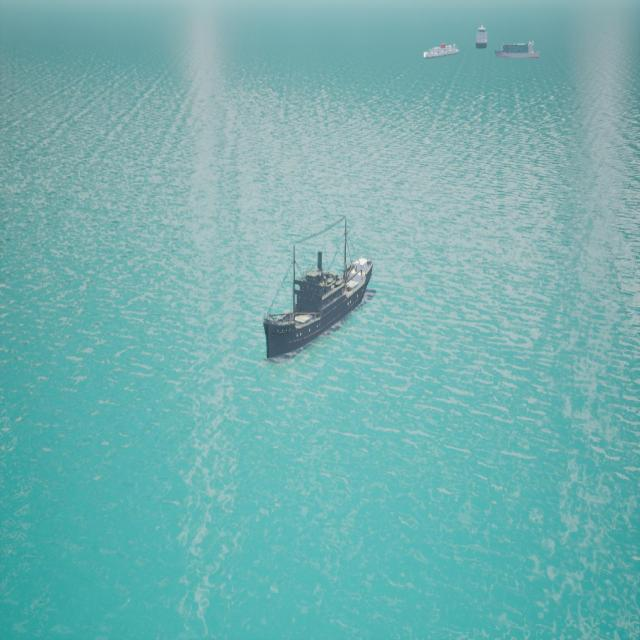fishing ship: (262, 253, 376, 363), (497, 43, 541, 63), (424, 45, 462, 62)
